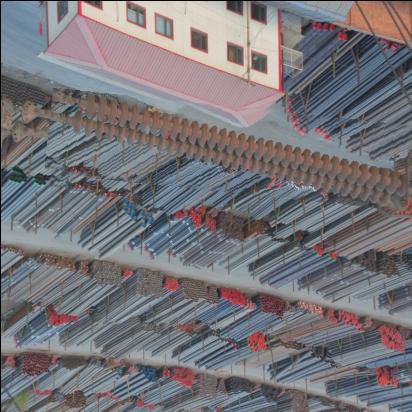insulator: (47, 97, 412, 202)
